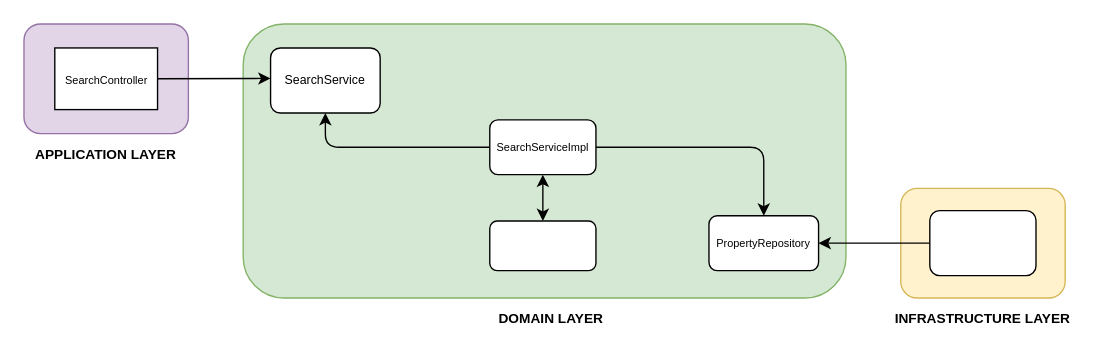
The diagram is 1103 pixels wide and 363 high, and some of its shapes have lost their labels. Each missing label, with the centre of its shape:
JpaRepository: (982,242)
Property: (542,245)
